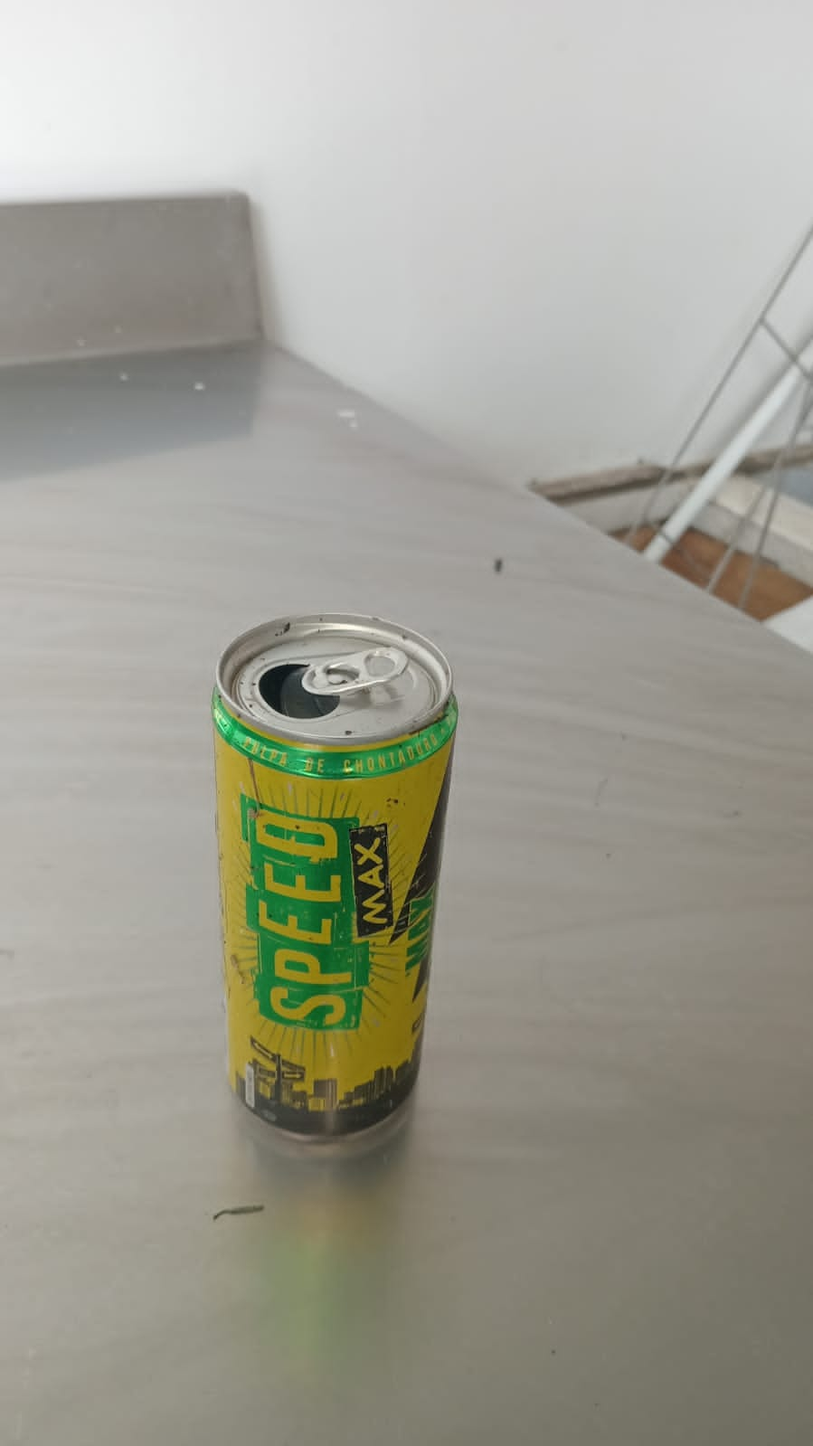Metal: (214, 617, 458, 1150)
